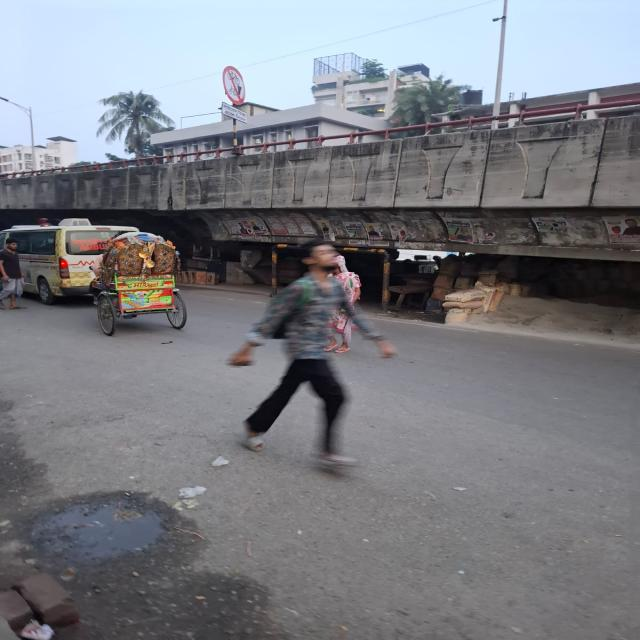person: (230, 240, 395, 465), (324, 255, 361, 354), (0, 238, 25, 310)
